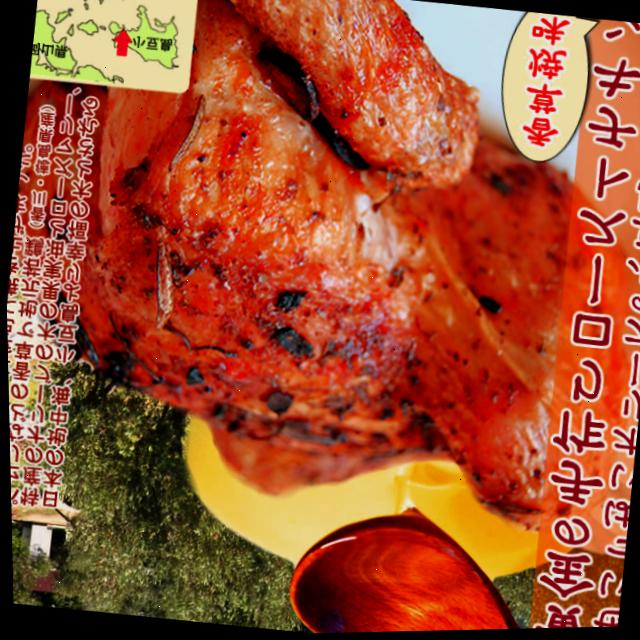鸡肉料理 含炸鸡: (75, 0, 572, 538)
